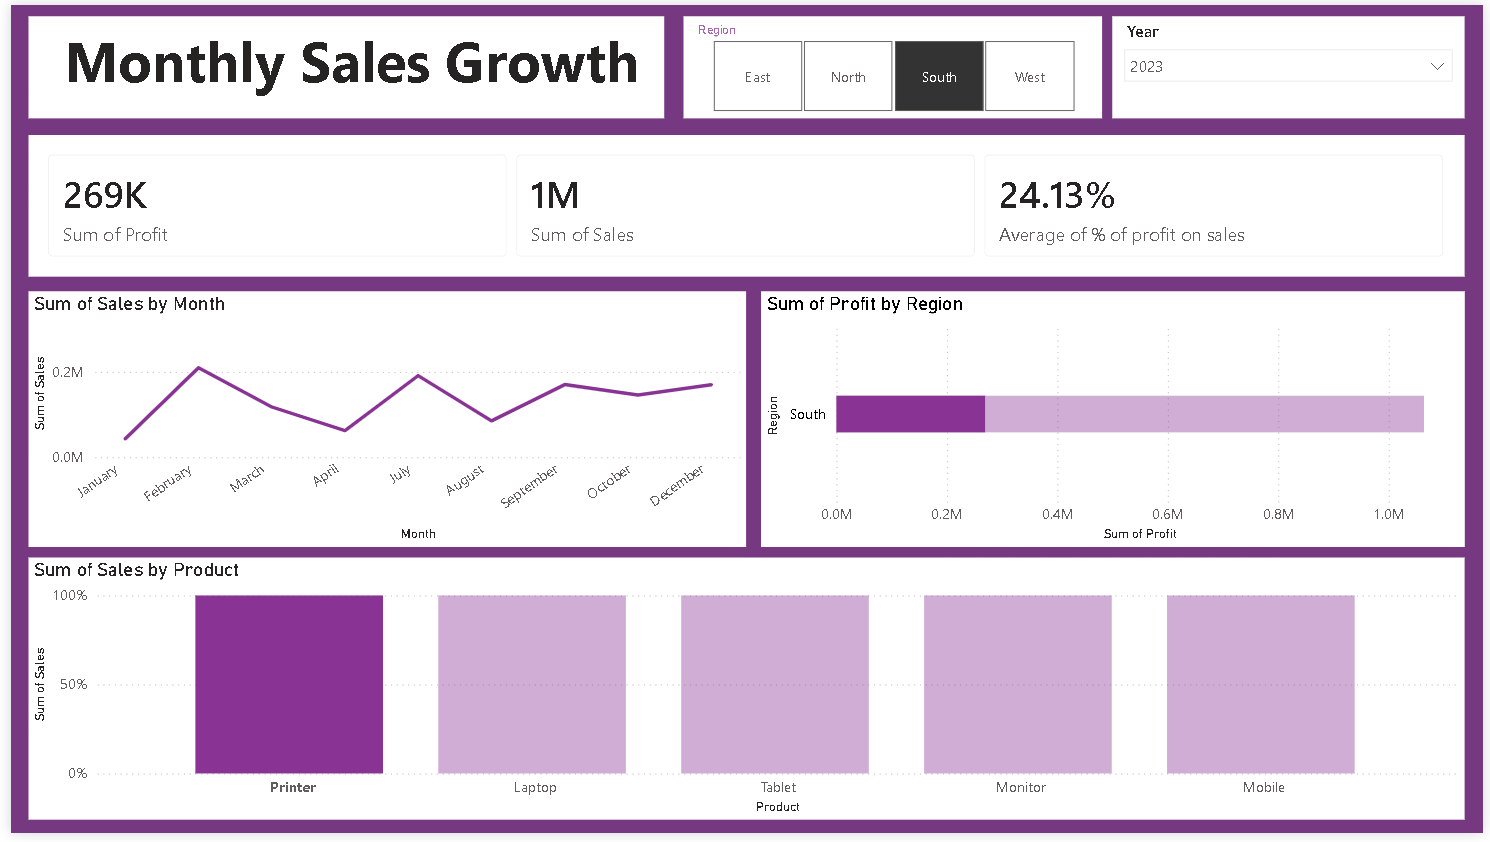

Layout of this report page (visuals, bound fields, positions):
{"tool":"powerbi","page":{"name":"Page 1","canvas":[1280,720],"ordinal":0},"visuals":[{"type":"cardVisual","fields":{"Data":["Sum(salesdb sales_data.Profit)","Sum(salesdb sales_data.Sales)","Avg(salesdb sales_data.% of profit on sales)"]},"box":[15.1,112.5,1248.7,123.5],"z":0},{"type":"lineChart","fields":{"Y":["Sum(salesdb sales_data.Sales)"],"Category":["salesdb sales_data.Order_Date.Variation.Date Hierarchy.Month"]},"box":[15.1,248.4,624.4,222.3],"z":1000},{"type":"clusteredBarChart","fields":{"Category":["salesdb sales_data.Region"],"Y":["Sum(salesdb sales_data.Profit)"]},"box":[651.8,248.4,612,222.3],"z":2000},{"type":"hundredPercentStackedColumnChart","fields":{"Category":["salesdb sales_data.Product"],"Y":["Sum(salesdb sales_data.Sales)"]},"box":[15.1,480.3,1248.7,227.8],"z":3000},{"type":"slicer","fields":{"Values":["salesdb sales_data.Order_Date.Variation.Date Hierarchy.Year"]},"box":[957.8,9.6,306,89.2],"z":4000},{"type":"slicer","fields":{"Values":["salesdb sales_data.Region"]},"box":[584.6,9.6,363.6,89.2],"z":5000},{"type":"textbox","box":[15.1,9.6,553,89.2],"z":6000}]}

Visuals, with their boxes in screenshot pixels (x1, y1, x2, y2), scaled from the page's 1280x720 canvas onto the 1490x842 screenshot:
cardVisual - Sum(salesdb sales_data.Profit) x Sum(salesdb sales_data.Sales): detection(18, 132, 1471, 276)
lineChart - Sum(salesdb sales_data.Sales) x salesdb sales_data.Order_Date.Variation.Date Hierarchy.Month: detection(18, 290, 744, 550)
clusteredBarChart - salesdb sales_data.Region x Sum(salesdb sales_data.Profit): detection(759, 290, 1471, 550)
hundredPercentStackedColumnChart - salesdb sales_data.Product x Sum(salesdb sales_data.Sales): detection(18, 562, 1471, 828)
slicer - salesdb sales_data.Order_Date.Variation.Date Hierarchy.Year: detection(1115, 11, 1471, 116)
slicer - salesdb sales_data.Region: detection(681, 11, 1104, 116)
textbox: detection(18, 11, 661, 116)
